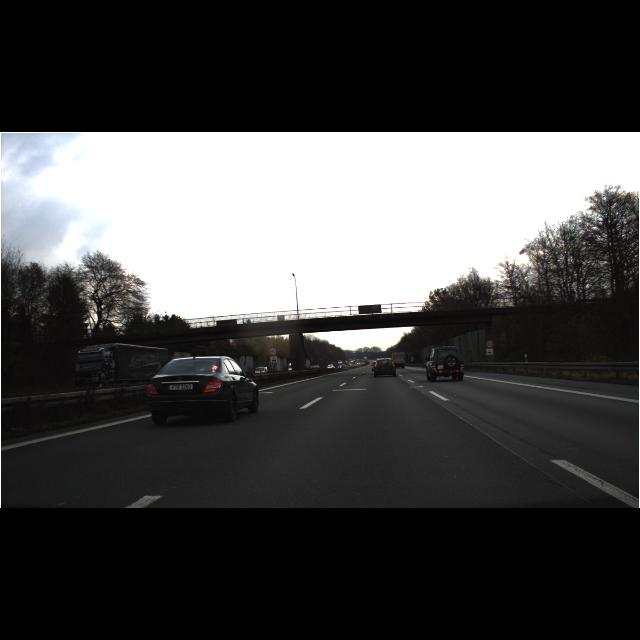prohibitory: (268, 348, 278, 357), (484, 339, 494, 348)
